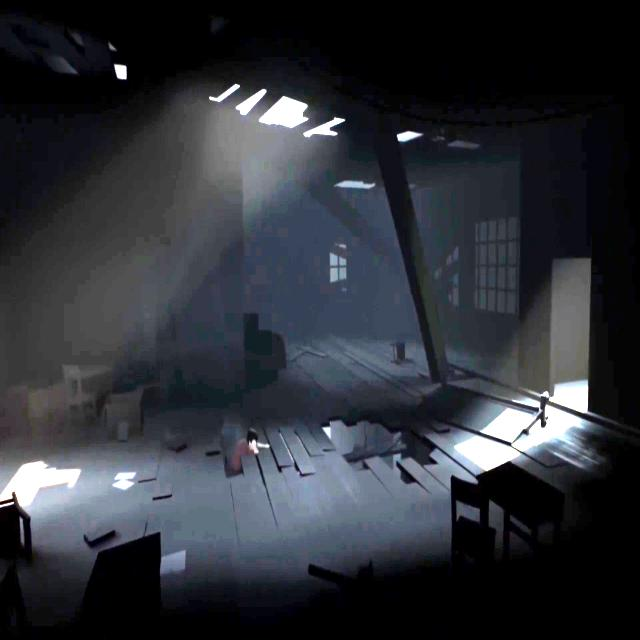boy: (233, 426, 270, 472)
